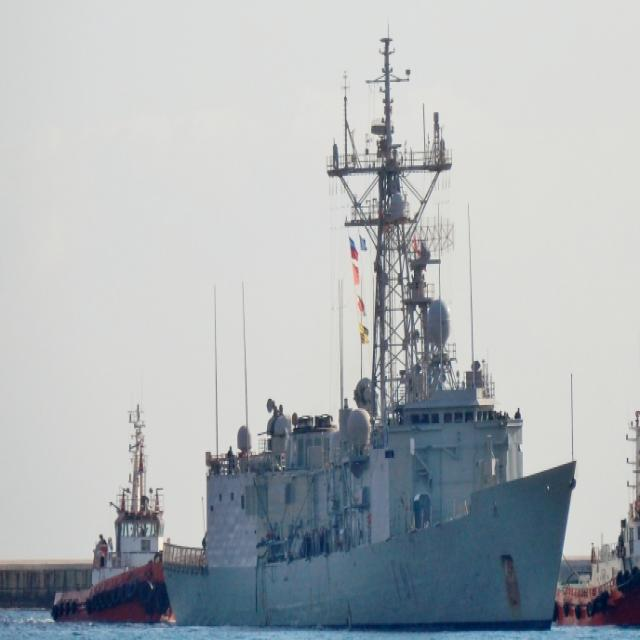Fragata: (159, 16, 579, 640)
